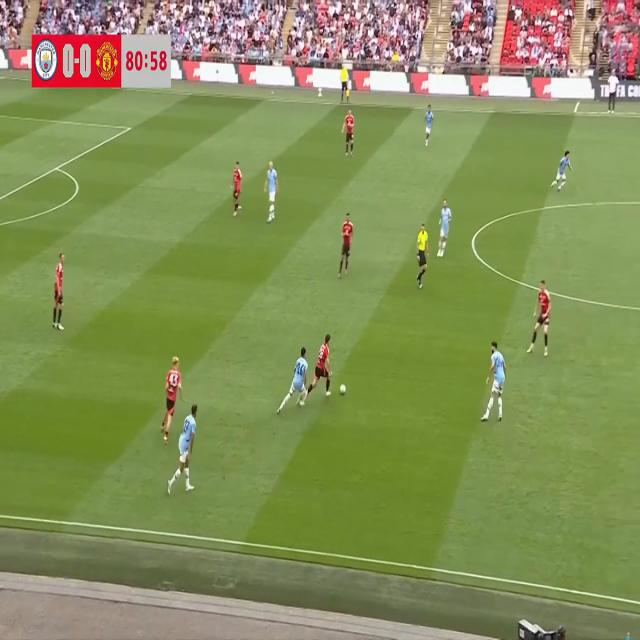ball: (336, 379, 350, 406)
players: (164, 395, 202, 495), (271, 349, 309, 429), (159, 348, 185, 455), (527, 274, 556, 361), (303, 332, 334, 413), (480, 338, 509, 424), (48, 254, 70, 336), (336, 210, 360, 282), (550, 145, 573, 204), (229, 156, 250, 217), (264, 158, 282, 226), (437, 195, 455, 263), (342, 103, 358, 165), (419, 93, 435, 150)
refree: (411, 219, 436, 292), (337, 55, 354, 108)
